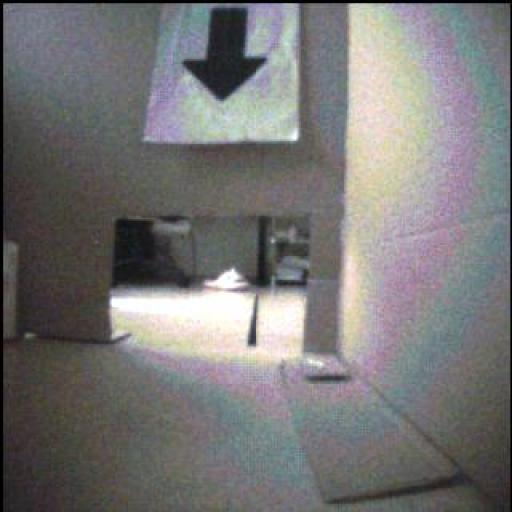arrow: (184, 9, 267, 102)
